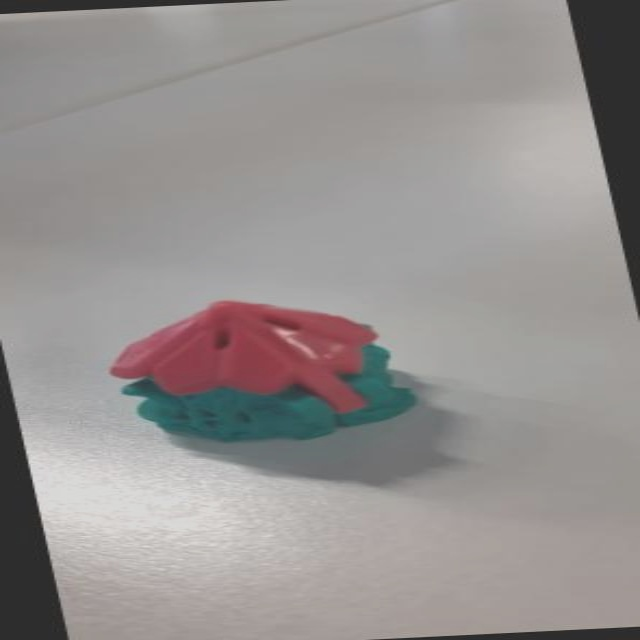House: (97, 290, 437, 448)
